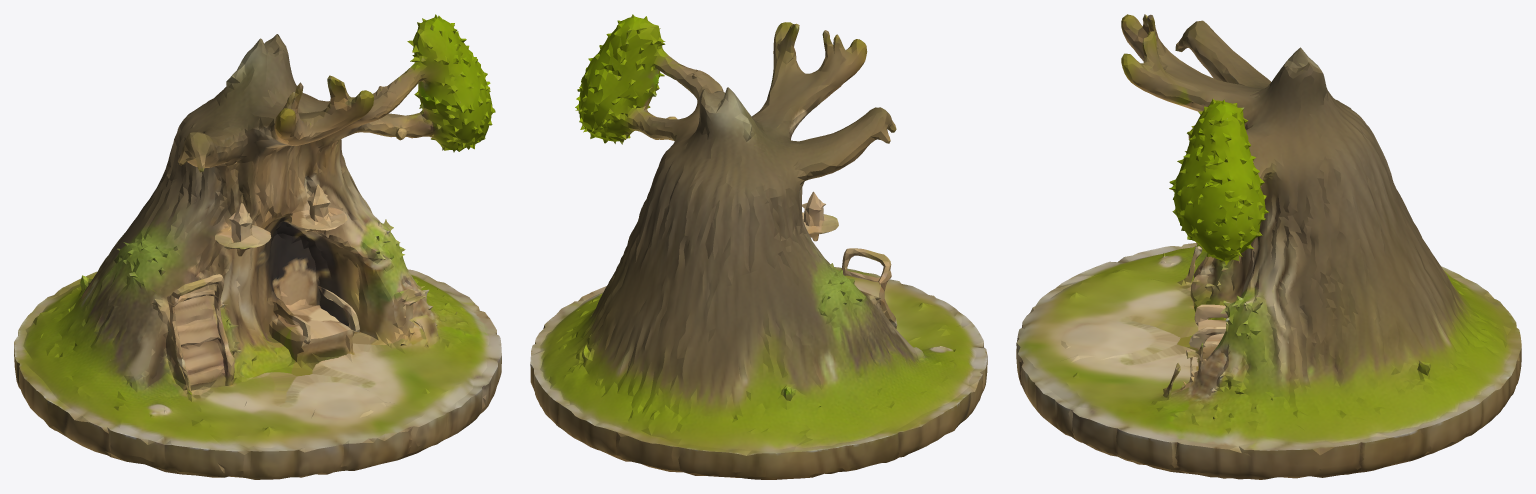
The picture shows the model from 3 angles, left to right: view 1: azimuth 30°, elevation 25°; view 2: azimuth 150°, elevation 25°; view 3: azimuth 270°, elevation 25°; orthographic projection. The views are drawn at different scales.
Visible parts, largest first — view 1: 050; view 2: 050; view 3: 050.
Boxes of the visible parts, left/top/right/bottom form: 050: left=14, top=14, right=501, bottom=479; 050: left=530, top=14, right=987, bottom=479; 050: left=1016, top=14, right=1521, bottom=479.
Size of the model in its own units: 1.89 by 1.47 by 1.89.
Materials: 1 (1 with a texture image).
